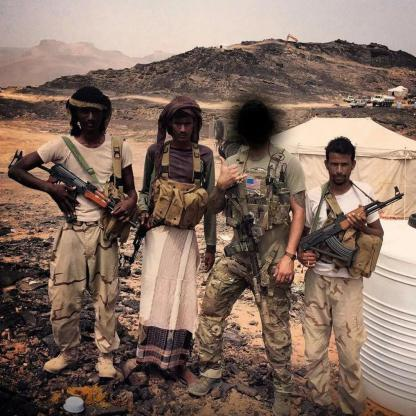rifle: (12, 149, 140, 228), (300, 184, 407, 267), (223, 180, 266, 304)
